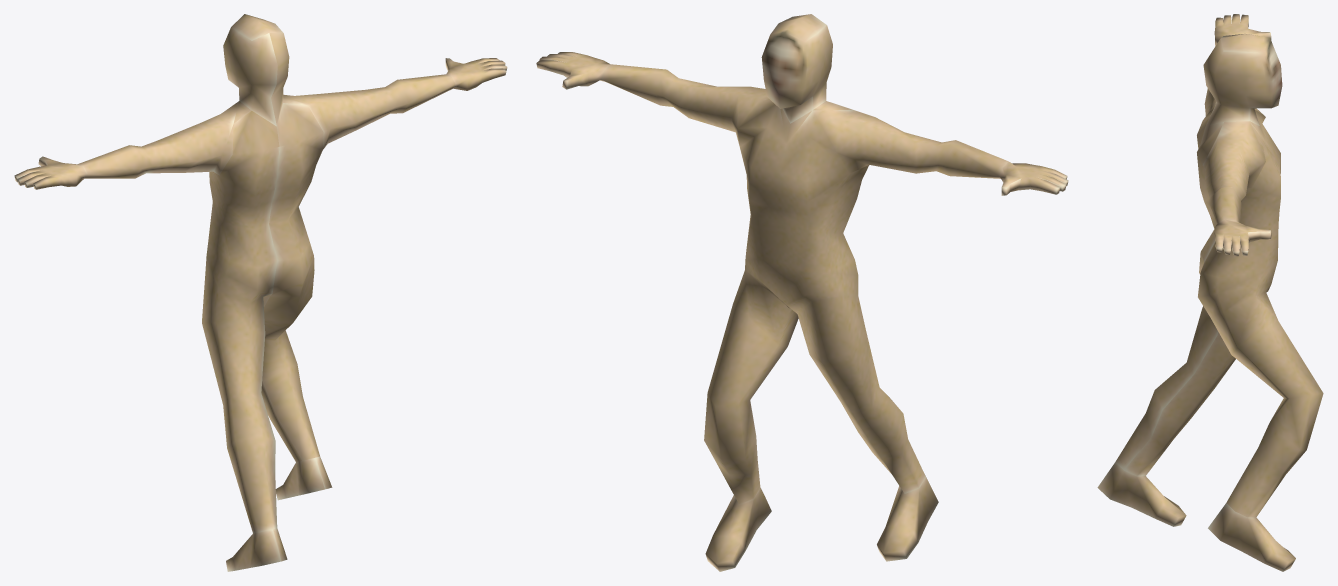
Rendered from human_000002.obj.
The picture shows the model from 3 angles, left to right: view 1: azimuth 30°, elevation 25°; view 2: azimuth 150°, elevation 25°; view 3: azimuth 270°, elevation 25°; orthographic projection. The views are drawn at different scales.
Size of the model in its own units: 1.87 by 1.89 by 0.7529.
